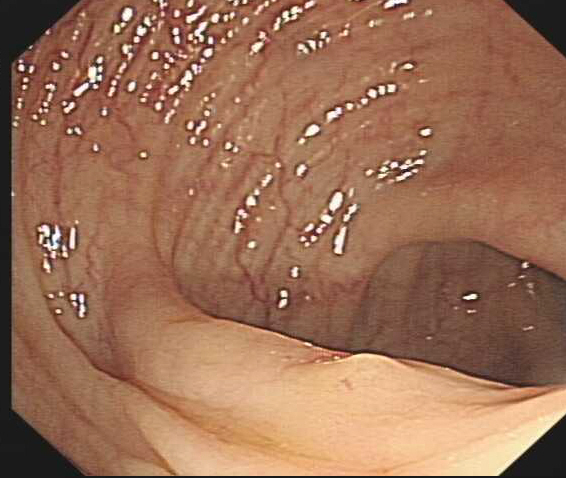others: (309, 350, 430, 398)
